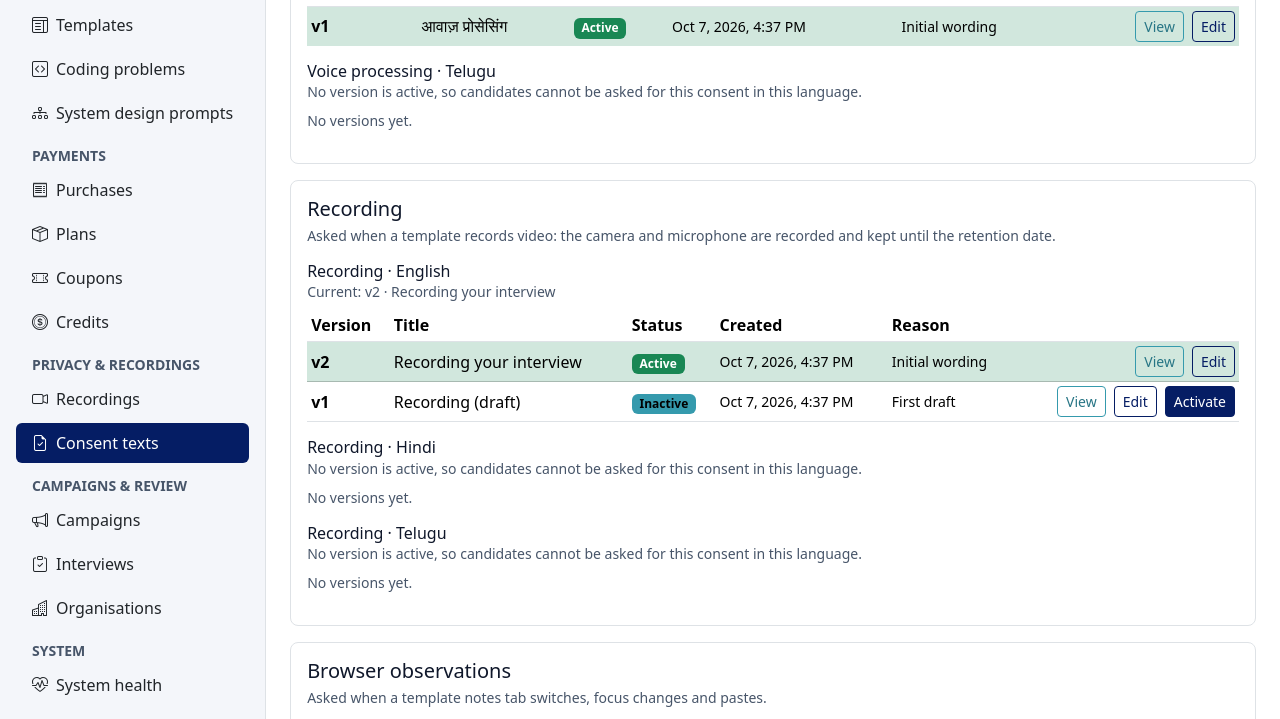
Test: consent texts › requires a reason to activate and explains candidates must accept again
(page scrolled)
Click the button with aria-label "Activate Recording English v1": click(1200, 402) 1165,386 -> 1235,417
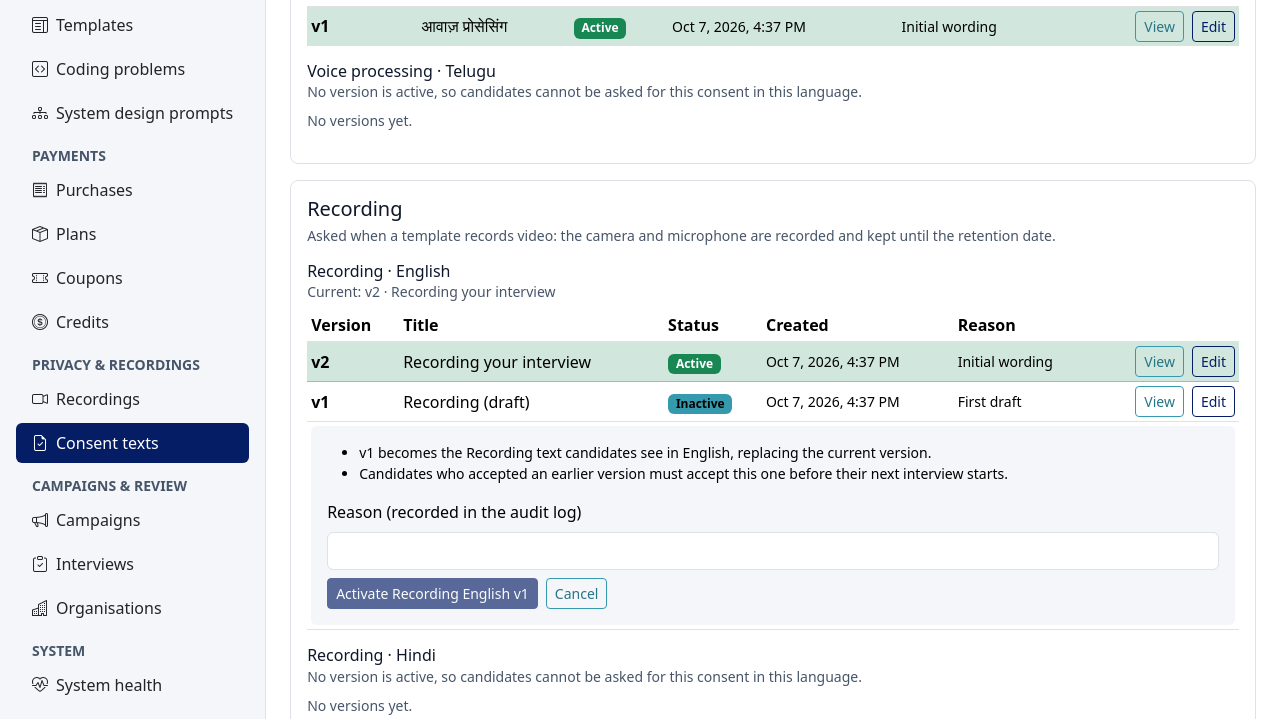
Expected: the list item "Candidates who accepted an earlier version must accept this one before their next interview starts." is shown, 359,464 -> 1008,483
Expected: the button "Activate Recording English v1" is disabled, 327,578 -> 538,609
In the field labelled "Reason (recorded in the audit log)": (773, 551) 327,532 -> 1219,570, type "Approved by legal"
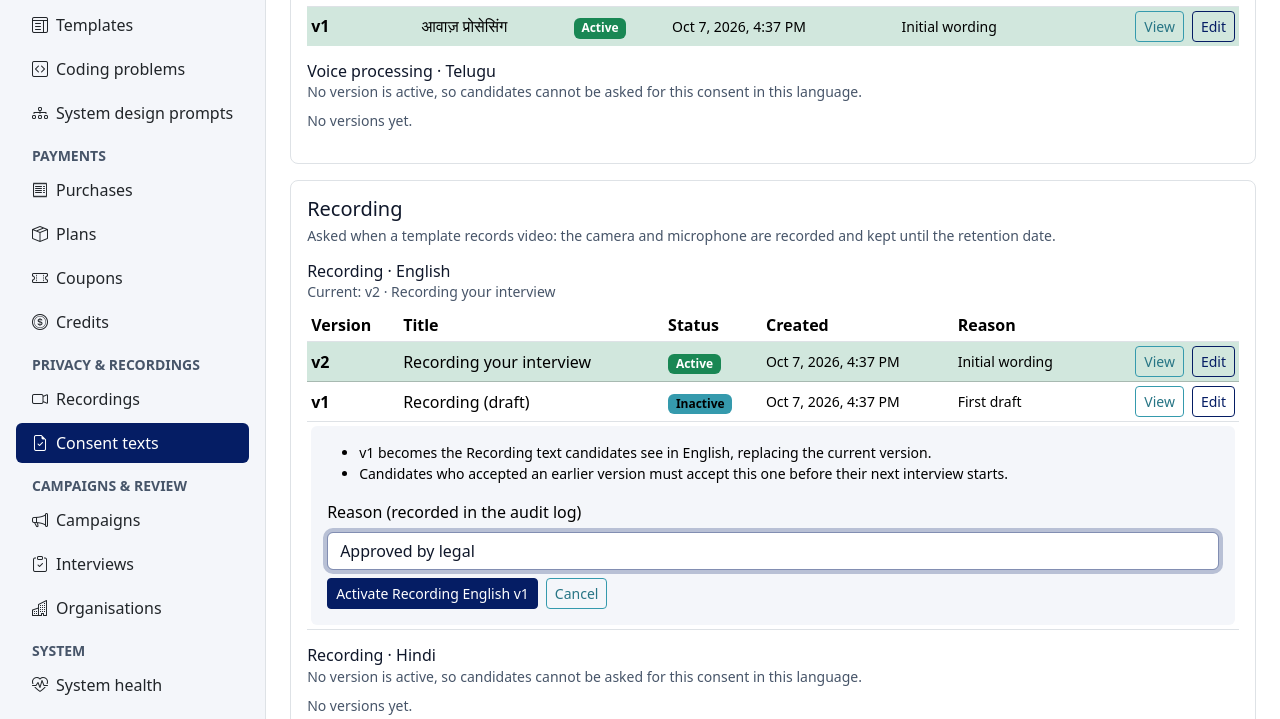
Expected: the button "Activate Recording English v1" is enabled
Click the button "Activate Recording English v1": click(432, 594) 327,578 -> 538,609
(page scrolled)
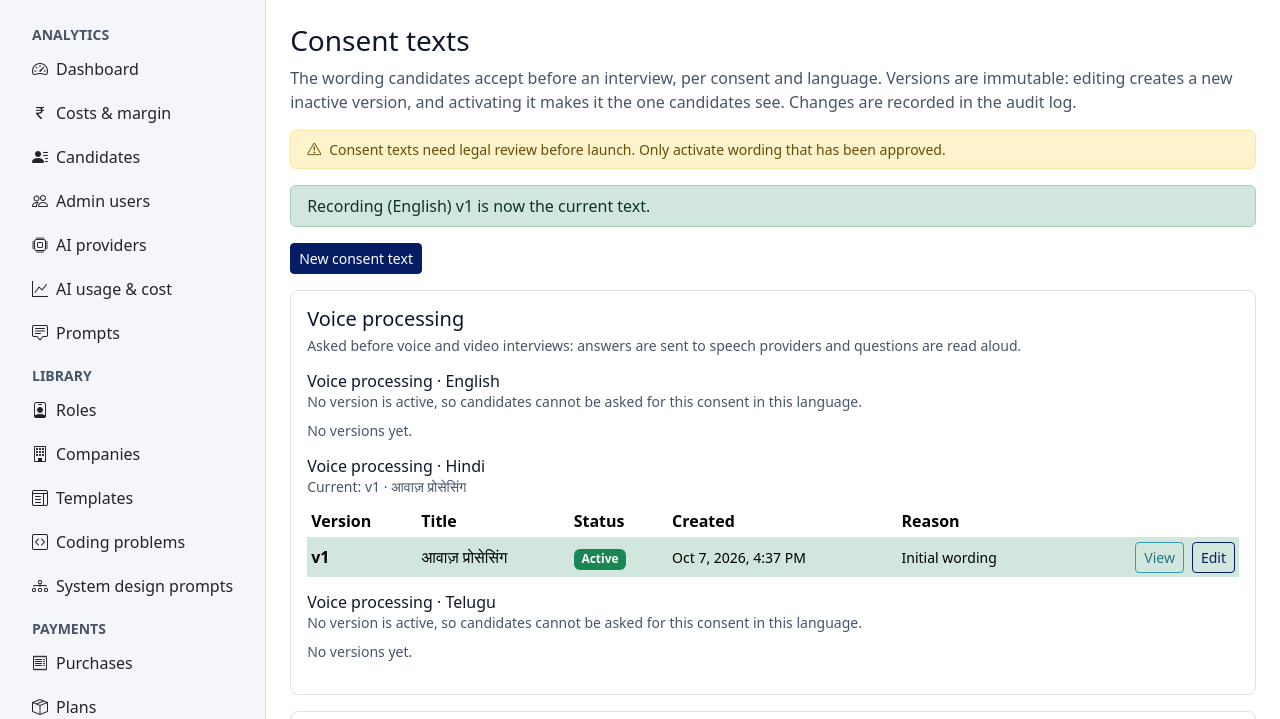
Expected: the text "Recording (English) v1 is now the current text." is shown, 290,185 -> 1256,227
